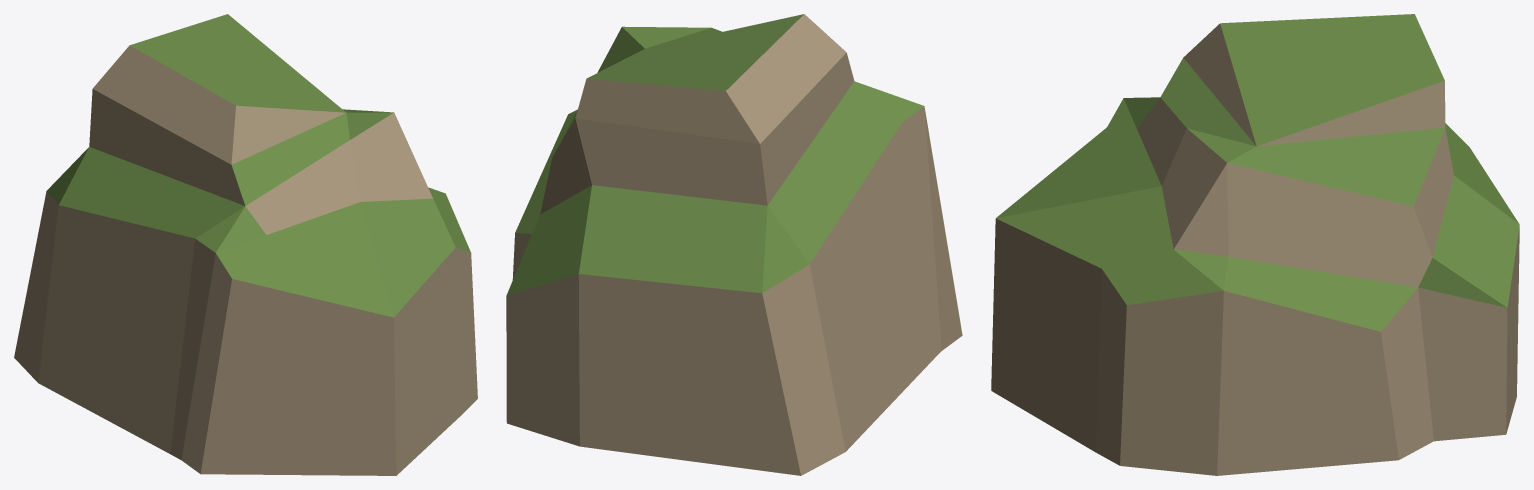
File: rocher_moussu_5.glb
3 views of the same model, side by side, from view 1: azimuth 30°, elevation 25°; view 2: azimuth 150°, elevation 25°; view 3: azimuth 270°, elevation 25° (orthographic). The views are drawn at different scales.
Parts seen in each view (by area): view 1: rocher_moussu_5; view 2: rocher_moussu_5; view 3: rocher_moussu_5.
Part boxes in pixels (x1,y1,x2,y2): rocher_moussu_5: (14,14,477,475); rocher_moussu_5: (506,14,962,475); rocher_moussu_5: (991,14,1519,475).
Size of the model in its own units: 0.8711 by 0.77 by 1.09.
